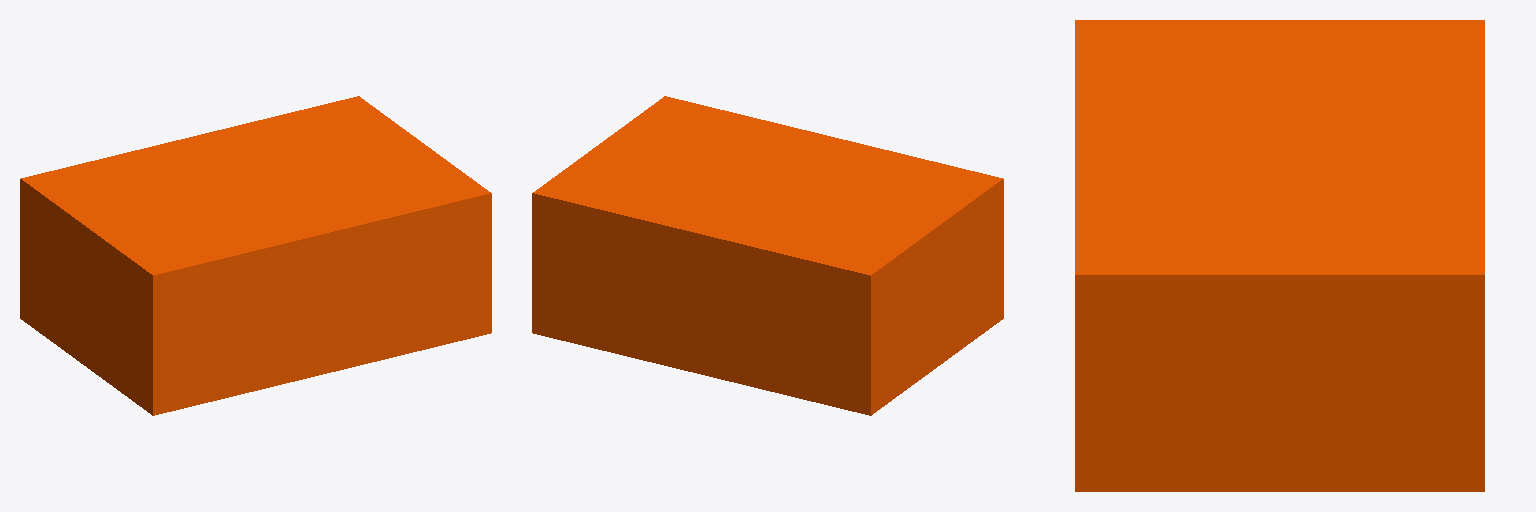
The robot description file, URDF, robot "FoodItem_6ddfe16ee22d7a3fce41b639931f9ca1":
<?xml version="1.0" ?>
<robot name="FoodItem_6ddfe16ee22d7a3fce41b639931f9ca1">
   <material name="obj_color">
      <color rgba="1.0 0.423529411765 0.0392156862745 1.0"/>
   </material>
   <link name="top">
      <inertial>
         <origin rpy="0.0001232102447763226 0.0002303852702875969 0.0002910754447496714" xyz="-0.0002470384671375989 0.002669796542492176 -0.0002205809966000133"/>
         <mass value="0.2486253734755591"/>
         <inertia ixx="0.0001232102449649294" ixy="3.821334493460647e-09" ixz="2.964581331722293e-09" iyy="0.0002303852701587517" iyz="-6.704758791267684e-10" izz="0.0002910754446899098"/>
      </inertial>
      <visual>
         <origin rpy="0 0 0" xyz="0 0 0"/>
         <geometry>
            <mesh filename="top_watertight_tiny.stl" scale="1 1 1"/>
         </geometry>
         <material name="obj_color"/>
      </visual>
      <collision>
         <origin rpy="0 0 0" xyz="0 0 0"/>
         <geometry>
            <mesh filename="top_watertight_tiny.obj" scale="1 1 1"/>
         </geometry>
      </collision>
   </link>
   <link name="bottom">
      <inertial>
         <origin rpy="1.633333333199431e-08 1.633333333199431e-08 1.633333333362855e-08" xyz="0.3464080000000008 0.3464080000000008 0.3464080000000008"/>
         <mass value="0.0009800000000000017"/>
         <inertia ixx="1.633333333253906e-08" ixy="5.447480642029219e-19" ixz="5.447480642029219e-19" iyy="1.633333333253906e-08" iyz="5.447480642029219e-19" izz="1.633333333253906e-08"/>
      </inertial>
      <visual>
         <origin rpy="0 0 0" xyz="0 0 0"/>
         <geometry>
            <mesh filename="bottom_watertight_tiny.stl" scale="1 1 1"/>
         </geometry>
         <material name="obj_color"/>
      </visual>
   </link>
   <joint name="rotation" type="revolute">
      <origin xyz="0 0 0"/>
      <axis xyz="0 0 -1"/>
      <parent link="bottom"/>
      <child link="top"/>
      <dynamics damping="1.0" friction="1.0"/>
      <limit effort="0.1" velocity="0.1" lower="0" upper="0.001"/>
   </joint>
</robot>

--- Render facts (derived) ---
The picture shows the robot from 3 angles, left to right: view 1: azimuth 30°, elevation 25°; view 2: azimuth 150°, elevation 25°; view 3: azimuth 270°, elevation 25°; orthographic projection.
Robot: FoodItem_6ddfe16ee22d7a3fce41b639931f9ca1 — 2 links, 1 joints (1 revolute); root link bottom; default pose: every joint at zero.
Links seen in each view (by area): view 1: top; view 2: top; view 3: top.
Boxes of the visible links, x1,y1,x2,y2 form: top: (20,96,491,415); top: (532,96,1003,415); top: (1075,20,1484,491).
Size in the robot's own frame: 0.098 by 0.0666 by 0.0388 metres.
1 mesh visuals loaded from 2 distinct referenced files (1 binary STL); not drawn: 1 (reference not matched to a file when rendering).
